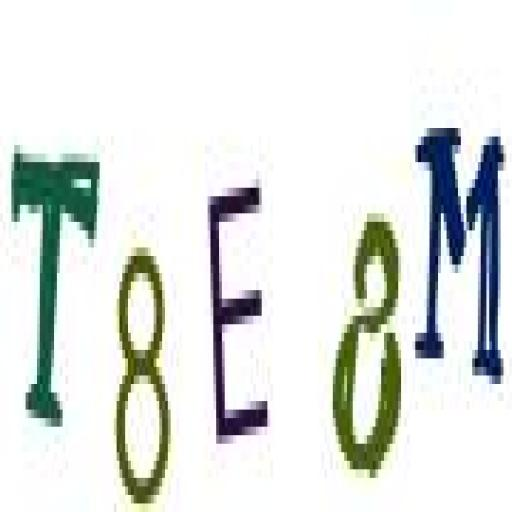8: (324, 174, 410, 486), (108, 229, 173, 512)
E: (208, 166, 278, 464)
M: (409, 116, 510, 400)
T: (7, 131, 103, 440)
